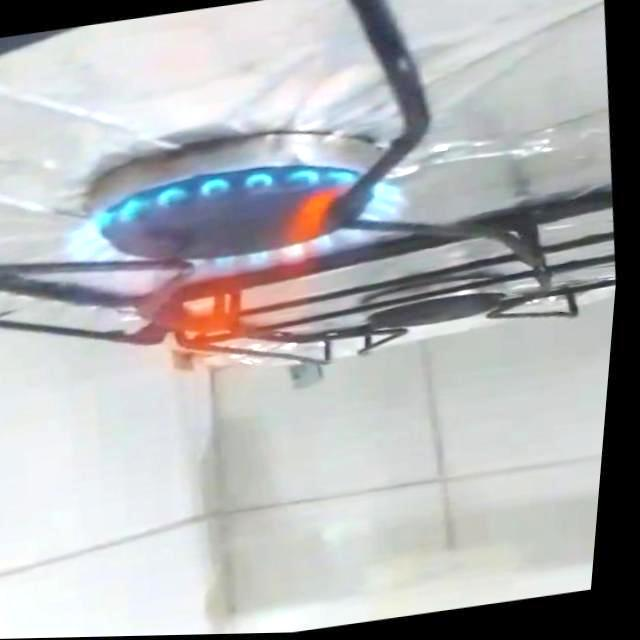fire: (42, 148, 434, 410)
